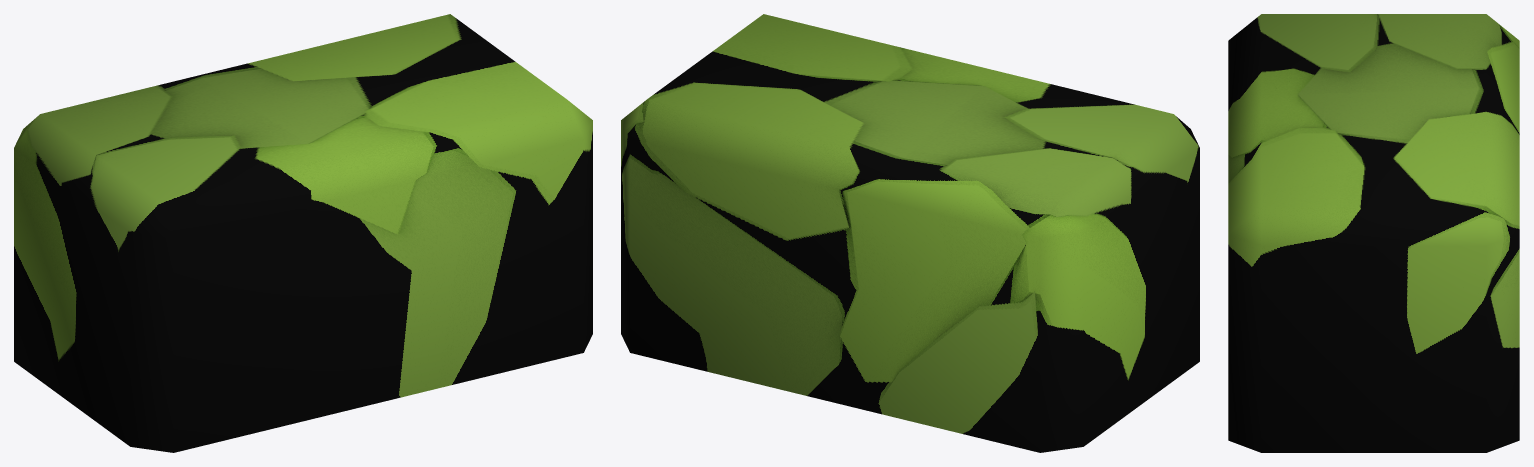
File: Foliage3.gltf
3 renders of one model, left to right at view 1: azimuth 30°, elevation 25°; view 2: azimuth 150°, elevation 25°; view 3: azimuth 270°, elevation 25°, orthographic. The views are drawn at different scales.
Visible parts, largest first — view 1: Foliage3; view 2: Foliage3; view 3: Foliage3.
Boxes of the visible parts, box(x1,y1,x2,y2) form: Foliage3: box(14, 14, 592, 452); Foliage3: box(621, 14, 1199, 452); Foliage3: box(1228, 14, 1519, 452).
Size of the model in its own units: 1.28 by 0.6361 by 0.7195.
1 material, 1 textured.
